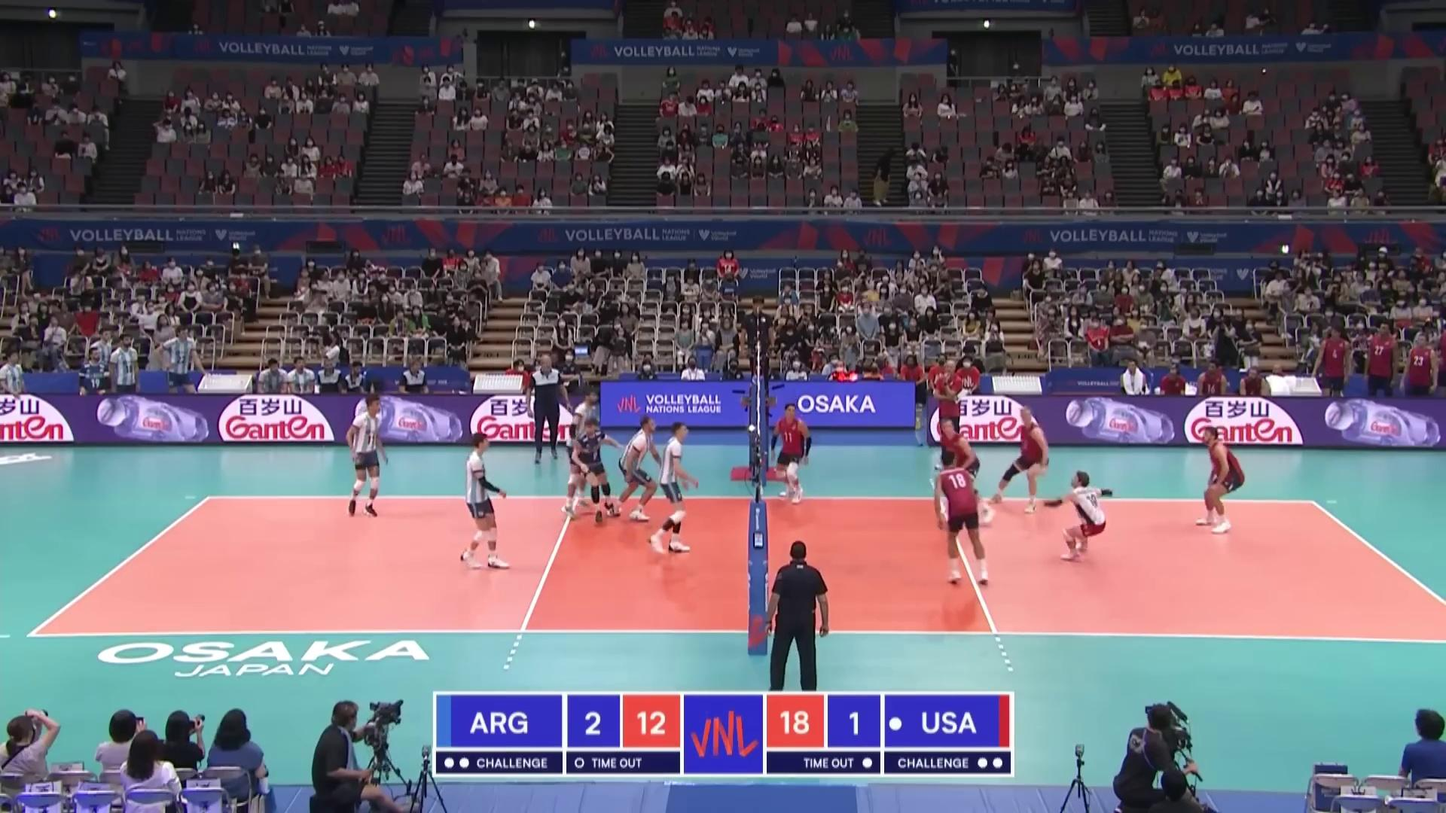player: (933, 451, 991, 585), (456, 431, 510, 570), (649, 423, 699, 551), (992, 407, 1050, 512), (938, 418, 994, 526), (573, 418, 624, 527), (1056, 471, 1116, 562), (345, 395, 389, 519), (614, 414, 664, 520), (562, 390, 603, 519), (1198, 427, 1244, 537), (771, 403, 810, 507)
refree: (762, 542, 831, 692), (742, 297, 776, 391)
